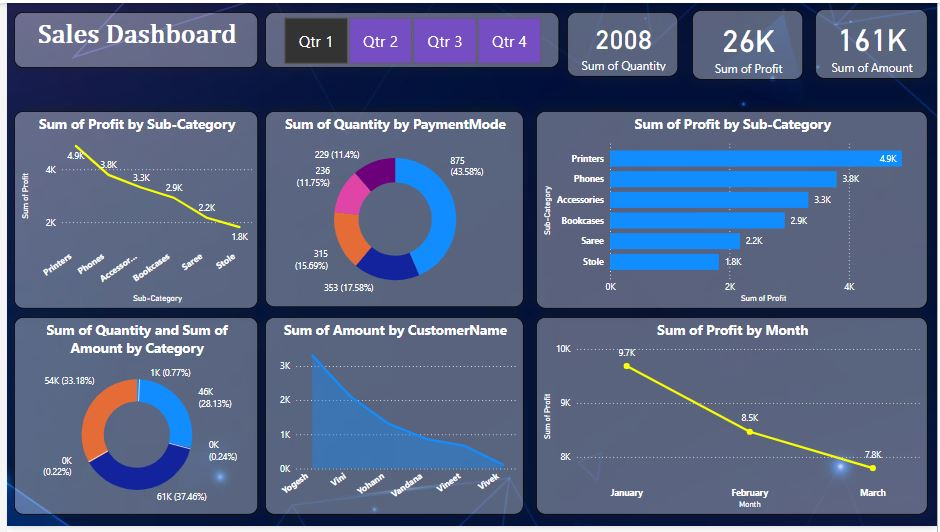

The dashboard page shown, as its layout file describes it:
{"tool":"powerbi","page":{"name":"Page 1","canvas":[1280,720],"ordinal":0},"visuals":[{"type":"textbox","box":[9.4,12.1,336.3,76.7],"z":0},{"type":"lineChart","fields":{"Category":["Orders.Order Date.Variation.Date Hierarchy.Month"],"Y":["Sum(Details.Profit)"]},"box":[727.7,431.8,539.4,271.7],"z":1000},{"type":"barChart","fields":{"Y":["Sum(Details.Profit)"],"Category":["Details.Sub-Category"]},"box":[727.7,148,539.4,271.7],"z":2000},{"type":"donutChart","fields":{"Y":["Sum(Details.Quantity)","Sum(Details.Amount)"],"Category":["Details.Category"]},"box":[9.4,431.8,336.3,271.7],"z":3000},{"type":"donutChart","fields":{"Y":["Sum(Details.Quantity)"],"Category":["Details.PaymentMode"]},"box":[355.1,149.3,356.5,270.4],"z":4000},{"type":"card","fields":{"Values":["Sum(Details.Amount)"]},"box":[1112.4,8.1,154.7,95.5],"z":5000},{"type":"card","fields":{"Values":["Sum(Details.Profit)"]},"box":[942.9,9.4,153.3,95.5],"z":6000},{"type":"card","fields":{"Values":["Sum(Details.Quantity)"]},"box":[770.7,12.1,153.3,88.8],"z":7000},{"type":"lineChart","fields":{"Category":["Details.Sub-Category"],"Y":["Sum(Details.Profit)"]},"box":[9.4,148,336.3,271.7],"z":8000},{"type":"areaChart","fields":{"Category":["Orders.CustomerName"],"Y":["Sum(Details.Amount)"]},"box":[355.1,431.8,356.5,271.7],"z":9000},{"type":"slicer","fields":{"Values":["Orders.Order Date.Variation.Date Hierarchy.Quarter"]},"box":[355.1,12.1,404.9,76.7],"z":10000}]}

Visuals, with their boxes in screenshot pixels (x1, y1, x2, y2), scaled from the page's 1280x720 canvas onto the 940x532 screenshot:
textbox: box(7, 9, 254, 66)
lineChart - Orders.Order Date.Variation.Date Hierarchy.Month x Sum(Details.Profit): box(534, 319, 931, 520)
barChart - Sum(Details.Profit) x Details.Sub-Category: box(534, 109, 931, 310)
donutChart - Sum(Details.Quantity) x Sum(Details.Amount): box(7, 319, 254, 520)
donutChart - Sum(Details.Quantity) x Details.PaymentMode: box(261, 110, 523, 310)
card - Sum(Details.Amount): box(817, 6, 931, 77)
card - Sum(Details.Profit): box(692, 7, 805, 78)
card - Sum(Details.Quantity): box(566, 9, 679, 75)
lineChart - Details.Sub-Category x Sum(Details.Profit): box(7, 109, 254, 310)
areaChart - Orders.CustomerName x Sum(Details.Amount): box(261, 319, 523, 520)
slicer - Orders.Order Date.Variation.Date Hierarchy.Quarter: box(261, 9, 558, 66)
